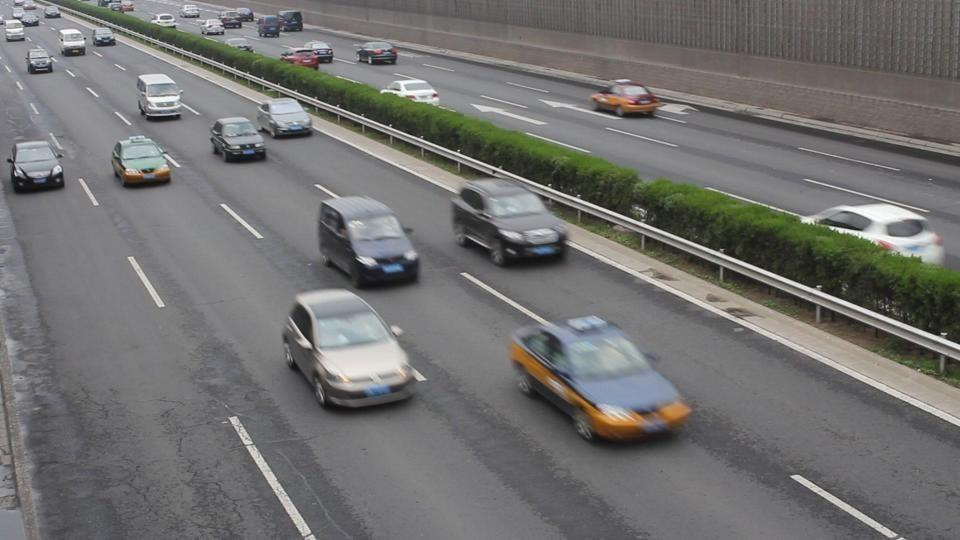car: (507, 312, 696, 445), (281, 288, 425, 411), (449, 177, 570, 267), (315, 189, 420, 288), (801, 202, 945, 264), (111, 135, 173, 187), (9, 139, 66, 193), (589, 79, 662, 118), (209, 117, 267, 162), (256, 98, 313, 139), (135, 73, 184, 120), (26, 47, 54, 74)
